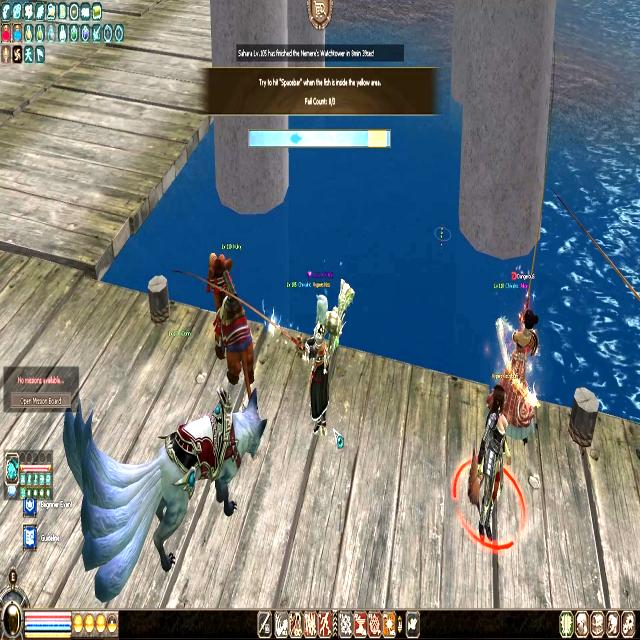fishes: (289, 132, 303, 144)
